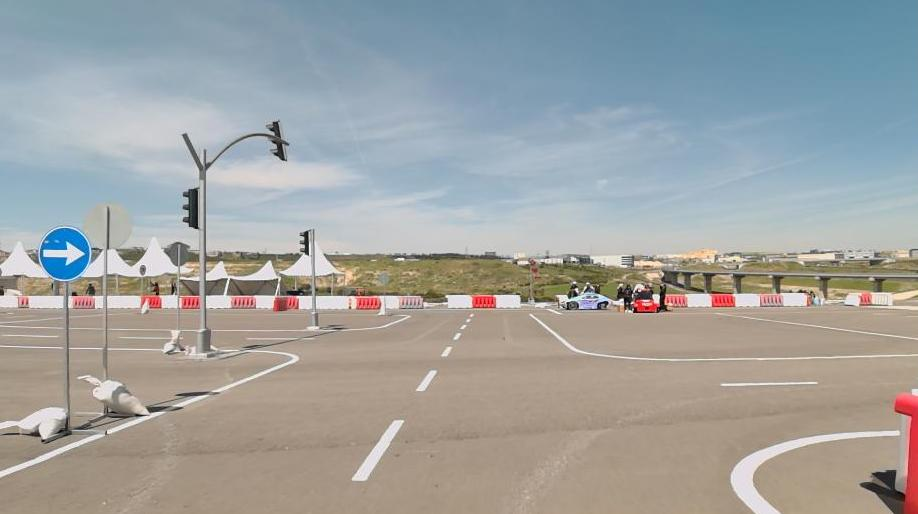nesne: (0, 302, 782, 512), (0, 305, 481, 513), (336, 302, 781, 512), (0, 344, 299, 480), (524, 303, 915, 358), (730, 426, 896, 512), (715, 307, 915, 341), (352, 416, 405, 479), (79, 372, 151, 416), (37, 225, 91, 280), (893, 395, 917, 512), (0, 404, 70, 442), (204, 292, 311, 310), (322, 312, 412, 331), (315, 294, 424, 309), (0, 342, 162, 350), (444, 292, 519, 309), (895, 414, 909, 498), (718, 377, 820, 387), (67, 295, 137, 309), (0, 294, 65, 309), (560, 291, 610, 310), (634, 282, 657, 311), (316, 296, 358, 310), (26, 294, 65, 308), (163, 329, 185, 352), (417, 367, 437, 391), (213, 326, 303, 331), (445, 293, 475, 307), (355, 294, 381, 310), (469, 293, 496, 308), (107, 296, 139, 308), (684, 292, 713, 305), (869, 291, 891, 308), (656, 281, 668, 311), (244, 335, 315, 340), (229, 295, 256, 308), (206, 294, 231, 308), (781, 292, 806, 306), (711, 293, 737, 306), (758, 293, 784, 306), (622, 281, 632, 314), (400, 294, 423, 308), (274, 296, 296, 310), (664, 294, 687, 307), (567, 278, 581, 299), (737, 293, 759, 306), (494, 295, 519, 306), (180, 294, 199, 308), (380, 294, 399, 308), (72, 296, 94, 308), (843, 293, 859, 308), (257, 295, 275, 308), (614, 280, 625, 300), (297, 296, 312, 310), (145, 294, 161, 307), (375, 300, 388, 316), (160, 295, 176, 307), (0, 297, 16, 308), (138, 297, 148, 314), (590, 277, 601, 292), (440, 343, 452, 356), (14, 297, 28, 308), (94, 295, 104, 308), (581, 279, 593, 289), (860, 293, 869, 306), (66, 295, 73, 307), (453, 331, 461, 339)
